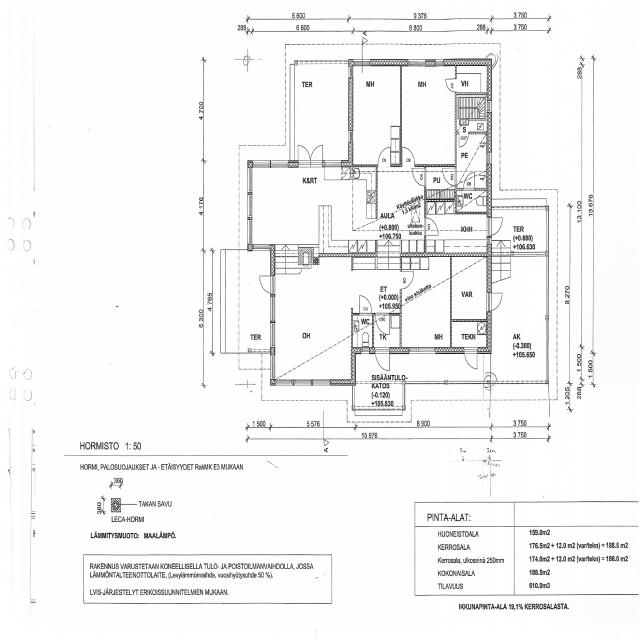door: (488, 214, 504, 237), (308, 142, 324, 165), (463, 348, 479, 370), (376, 143, 391, 166), (375, 348, 390, 371), (296, 142, 311, 165), (258, 272, 274, 293), (488, 290, 504, 311), (401, 143, 416, 164), (358, 293, 372, 313), (401, 268, 415, 288), (425, 214, 439, 233), (412, 167, 425, 185), (444, 75, 457, 92), (457, 125, 469, 141)
window: (250, 157, 279, 169), (269, 294, 277, 328), (408, 346, 435, 356), (263, 158, 290, 168), (268, 320, 276, 352), (246, 190, 254, 219), (246, 217, 254, 246), (269, 351, 276, 382), (311, 377, 332, 387), (408, 57, 428, 67), (292, 378, 312, 385), (356, 347, 371, 354)
zone: (272, 263, 352, 383), (250, 166, 330, 248), (400, 64, 457, 166), (293, 61, 349, 162), (350, 64, 401, 165), (402, 256, 452, 352), (450, 256, 490, 330), (425, 210, 490, 254), (354, 263, 404, 311), (457, 127, 489, 188), (456, 65, 489, 121), (450, 320, 488, 350), (424, 165, 456, 197), (352, 313, 373, 352), (456, 188, 488, 213), (374, 311, 389, 350), (461, 119, 486, 132)
